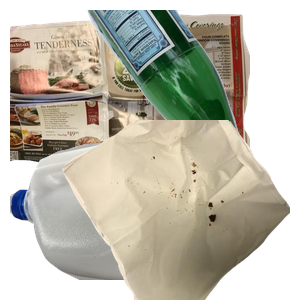glass: (75, 10, 300, 190)
paper: (10, 11, 250, 180)
plastic: (10, 120, 250, 300)
trash: (60, 120, 300, 300)
